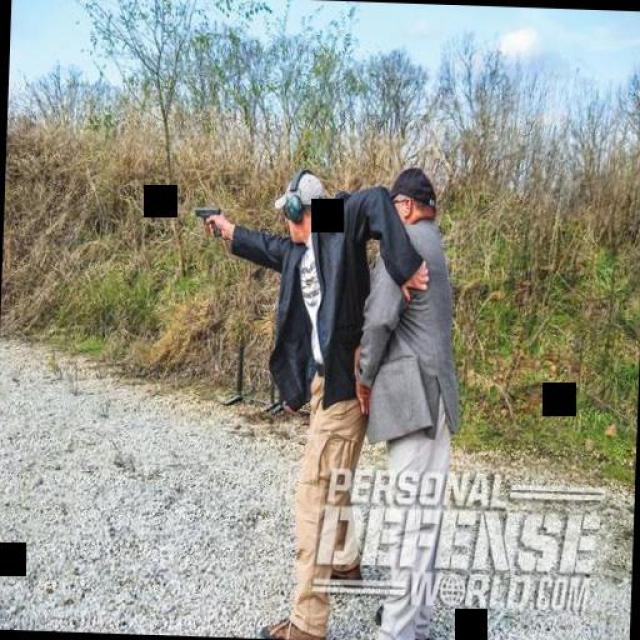gun: (191, 204, 230, 238)
